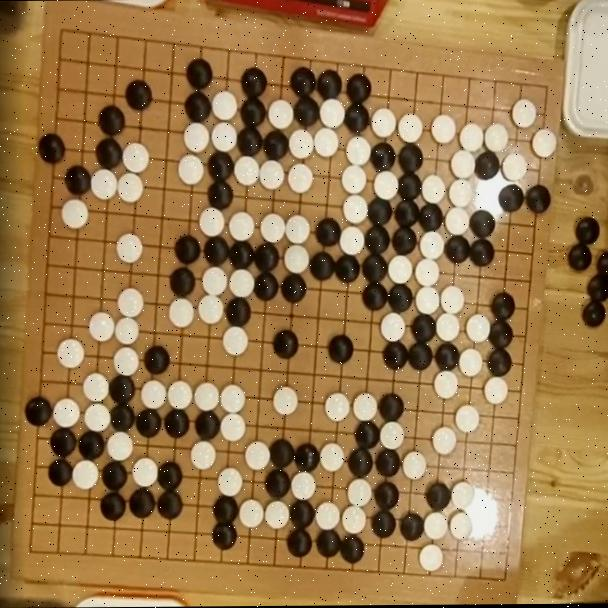corners: (481, 559, 525, 595), (524, 64, 566, 100), (17, 529, 53, 567), (48, 11, 84, 49)
